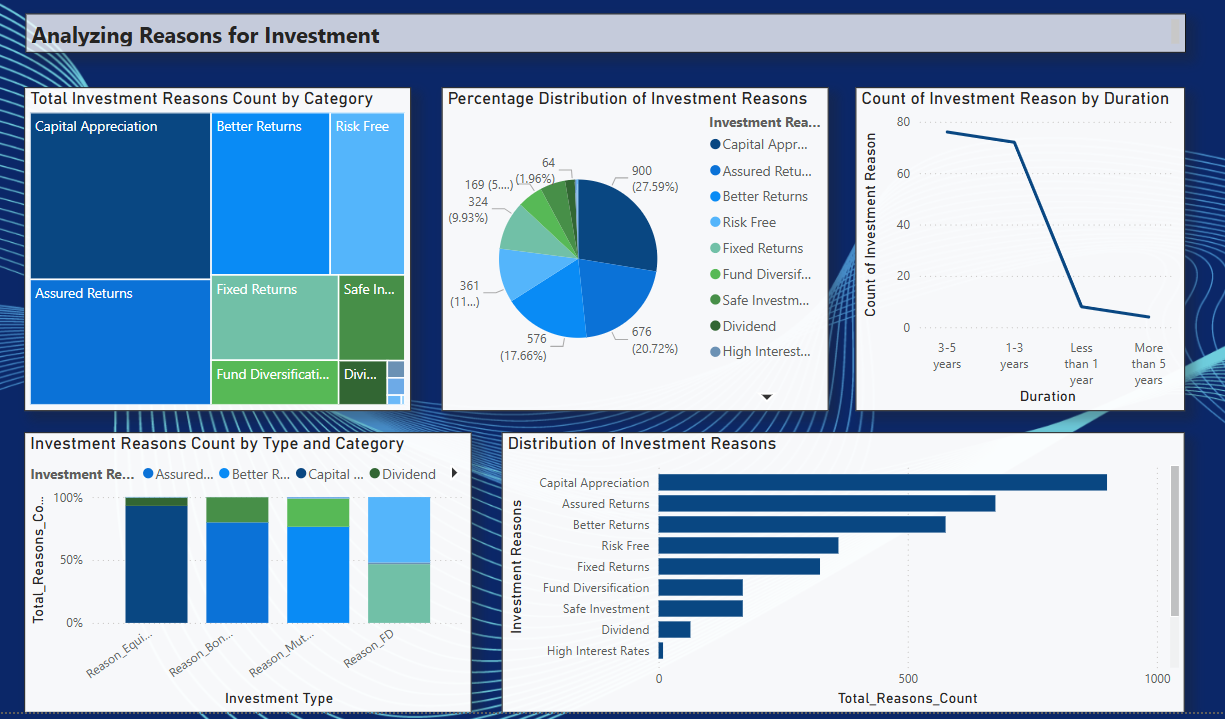

This screenshot's page, from the dashboard's own definition file:
{"tool":"powerbi","page":{"name":"Task 5","canvas":[1280,720],"ordinal":4},"visuals":[{"type":"barChart","title":"Distribution of Investment Reasons","fields":{"Category":["Sheet1.Investment Reasons"],"Y":["Data_set 2.Total_Reasons_Count"]},"box":[542,446,668.3,274.4],"z":0},{"type":"pieChart","title":"Percentage Distribution of Investment Reasons","fields":{"Category":["Investment_Reason_Count.Investment Reason"],"Y":["Data_set 2.Total_Investment_Reasons"]},"box":[483,108.4,378.7,317],"z":1000},{"type":"hundredPercentStackedColumnChart","title":"Investment Reasons Count by Type and Category","fields":{"Y":["Data_set 2.Total_Reasons_Count"],"Series":["Investment_Reason_Count.Investment Reason"],"Category":["Investment_Reason_Count.Investment Type"]},"box":[74.1,446,437.7,274.4],"z":2000},{"type":"lineChart","fields":{"Category":["Table11.Duration"],"Y":["CountNonNull(Table11.Investment Reason)"]},"box":[887.8,108.4,322.5,317],"z":3000},{"type":"treemap","title":"Total Investment Reasons Count by Category","fields":{"Group":["Investment_Reason_Count.Investment Reason"],"Values":["Data_set 2.Total_Reasons_Count"]},"box":[74.1,108.4,378.7,317],"z":4000},{"type":"textbox","box":[75.5,37,1134.8,38.4],"z":5000}]}

Visuals, with their boxes in screenshot pixels (x1, y1, x2, y2):
"Distribution of Investment Reasons" barChart: box=[499, 427, 1177, 705]
"Percentage Distribution of Investment Reasons" pieChart: box=[439, 84, 823, 406]
"Investment Reasons Count by Type and Category" hundredPercentStackedColumnChart: box=[24, 427, 468, 705]
lineChart - Table11.Duration x CountNonNull(Table11.Investment Reason): box=[850, 84, 1177, 406]
"Total Investment Reasons Count by Category" treemap: box=[24, 84, 408, 406]
textbox: box=[26, 12, 1177, 51]
